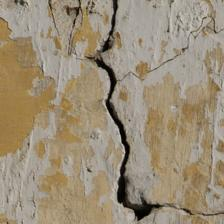Crack: (60, 77, 158, 145), (55, 58, 168, 100), (0, 55, 168, 77)
